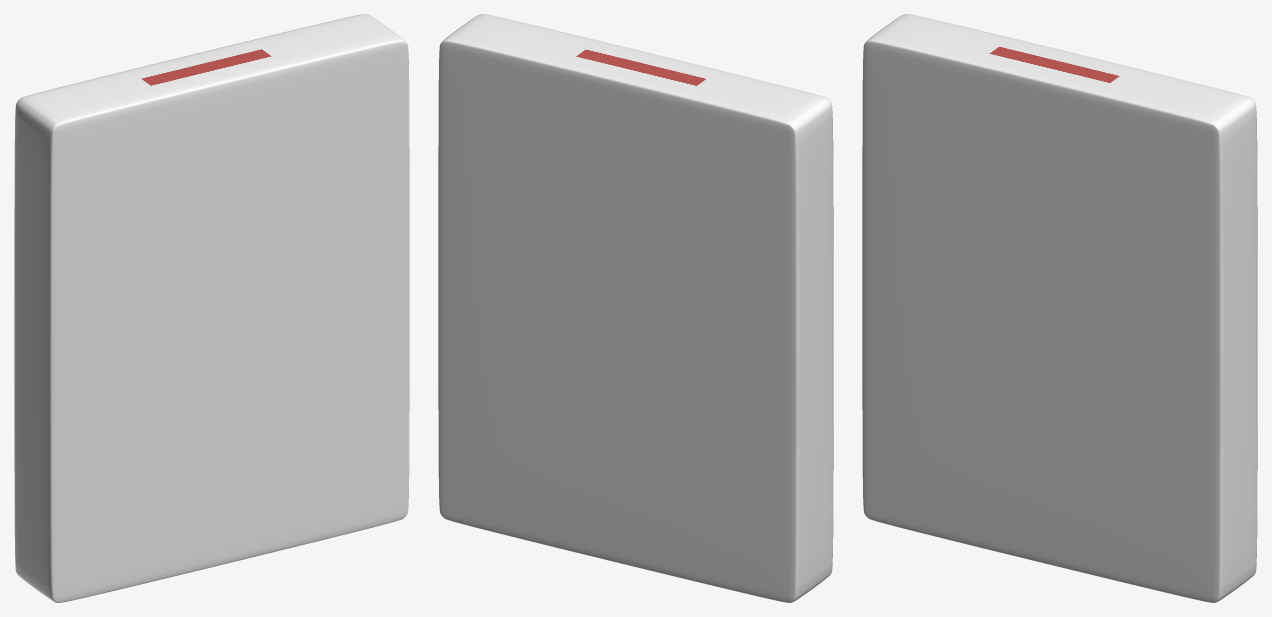
Rendered from light_switch.fbx.
The picture shows the model from 3 angles, left to right: view 1: azimuth 30°, elevation 25°; view 2: azimuth 150°, elevation 25°; view 3: azimuth 330°, elevation 25°; orthographic projection.
Visible parts, largest first — view 1: LightSwitch; view 2: LightSwitch; view 3: LightSwitch.
Part boxes in pixels (x1,y1,x2,y2): LightSwitch: [14, 14, 409, 602]; LightSwitch: [438, 14, 833, 602]; LightSwitch: [862, 14, 1257, 602].
Bounding box in the file's own units: 133 × 170 × 24.56.
